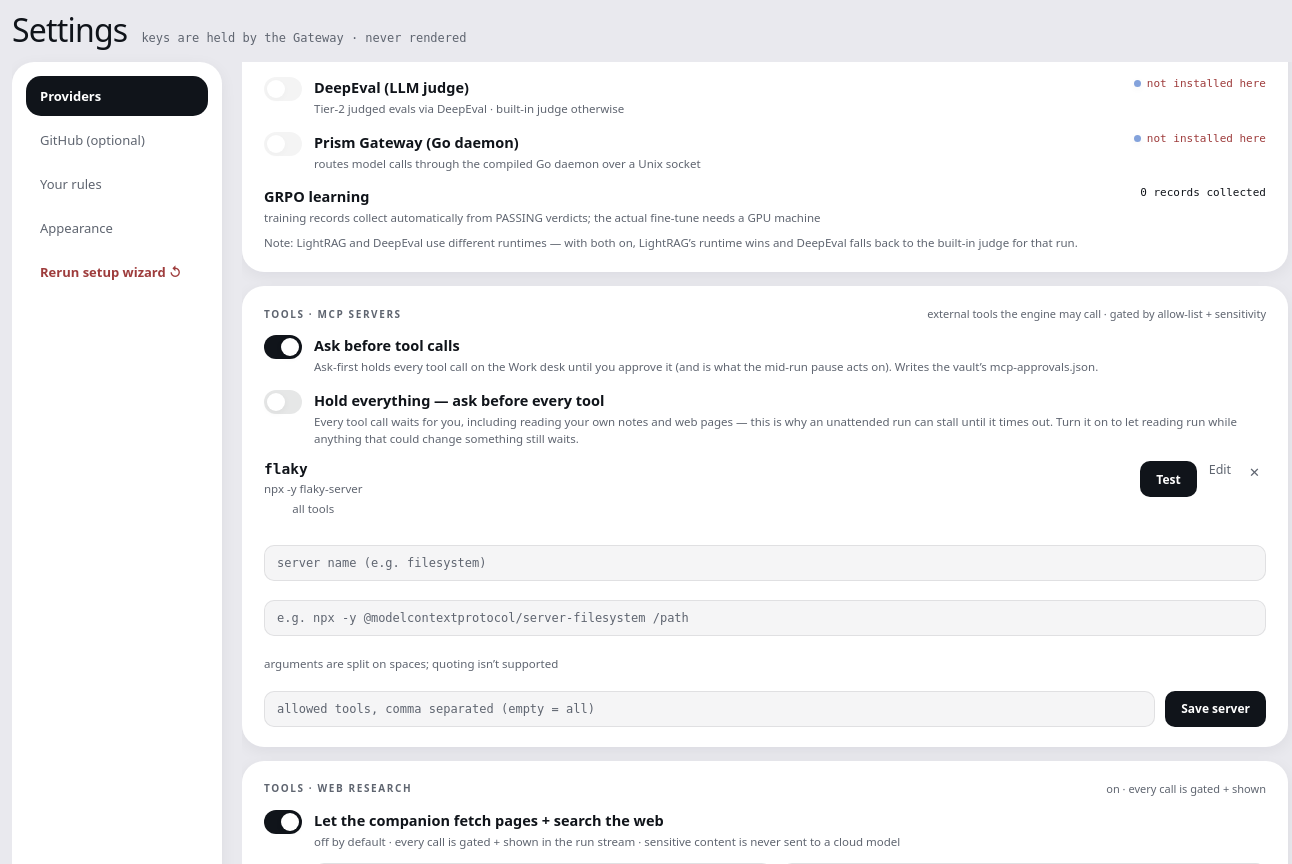
Test: Settings — MCP servers section (native shell) › surfaces the real engine error on a failed test, never a fabricated tool list
The width and height of the screenshot is (1292, 864).
(page scrolled)
Check: the text "flaky" is shown, box [264,461,308,477]
Click the button with aria-label "test flaky". click: (1168, 479)
box: [1140,461,1197,497]
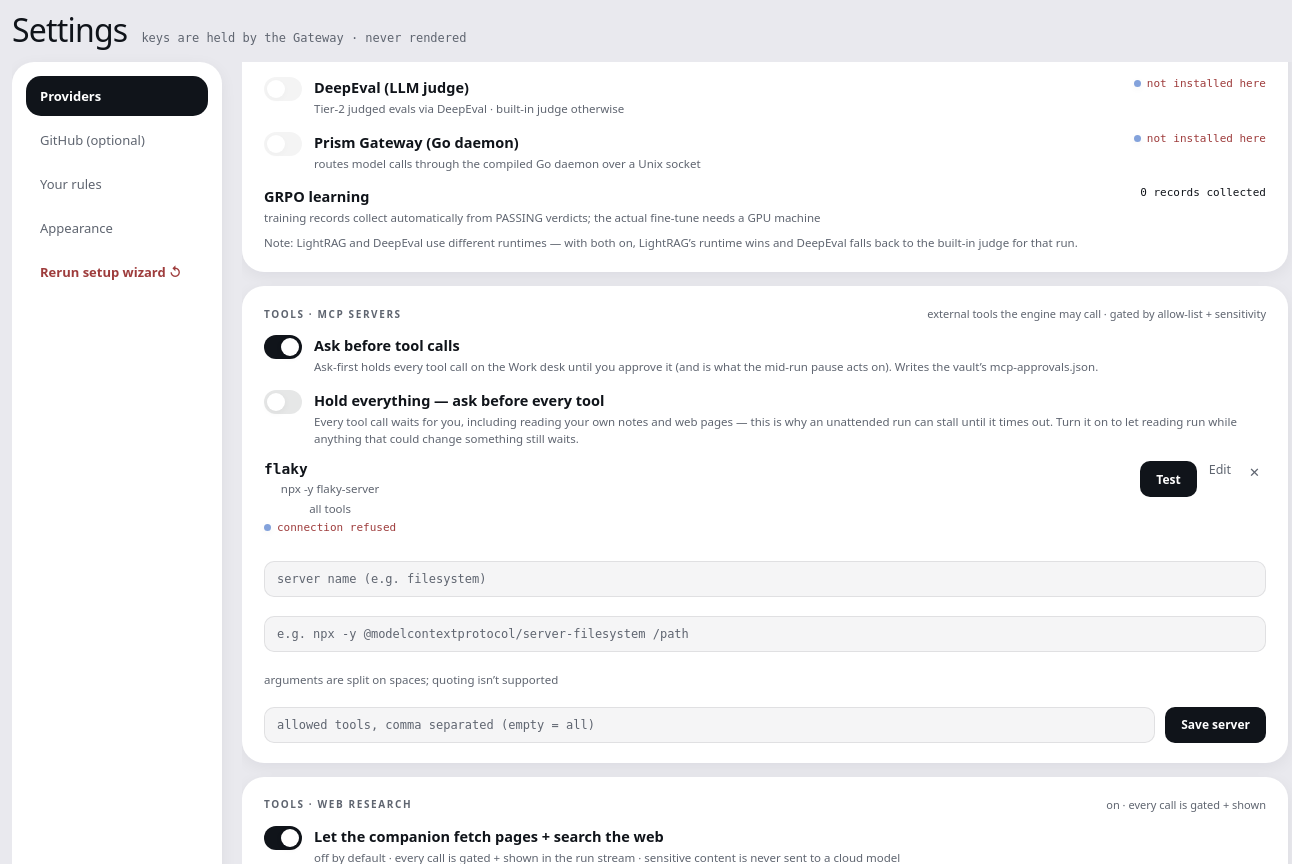
Check: the text "connection refused" is shown, box [264,521,396,534]
